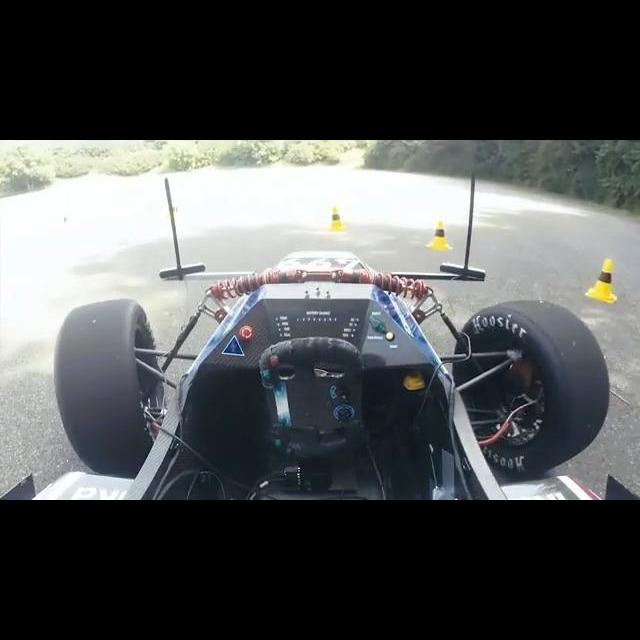Safety Cone: (575, 247, 624, 302), (424, 214, 455, 255), (316, 201, 351, 229)
vehicle: (0, 173, 640, 500)
